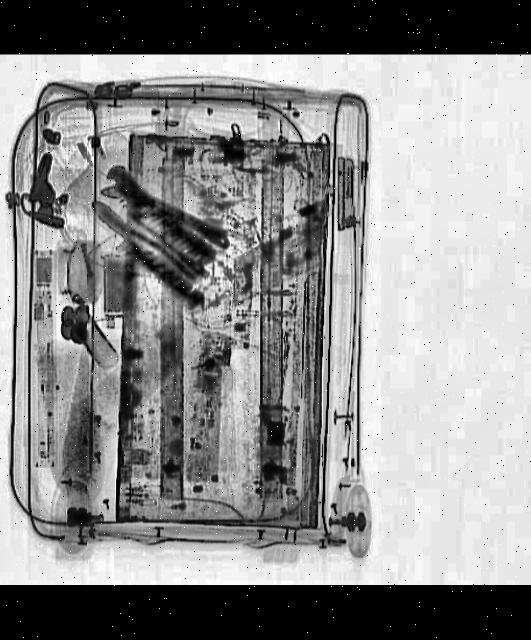Pliers: (78, 191, 203, 294)
Wrench: (89, 159, 235, 262)
